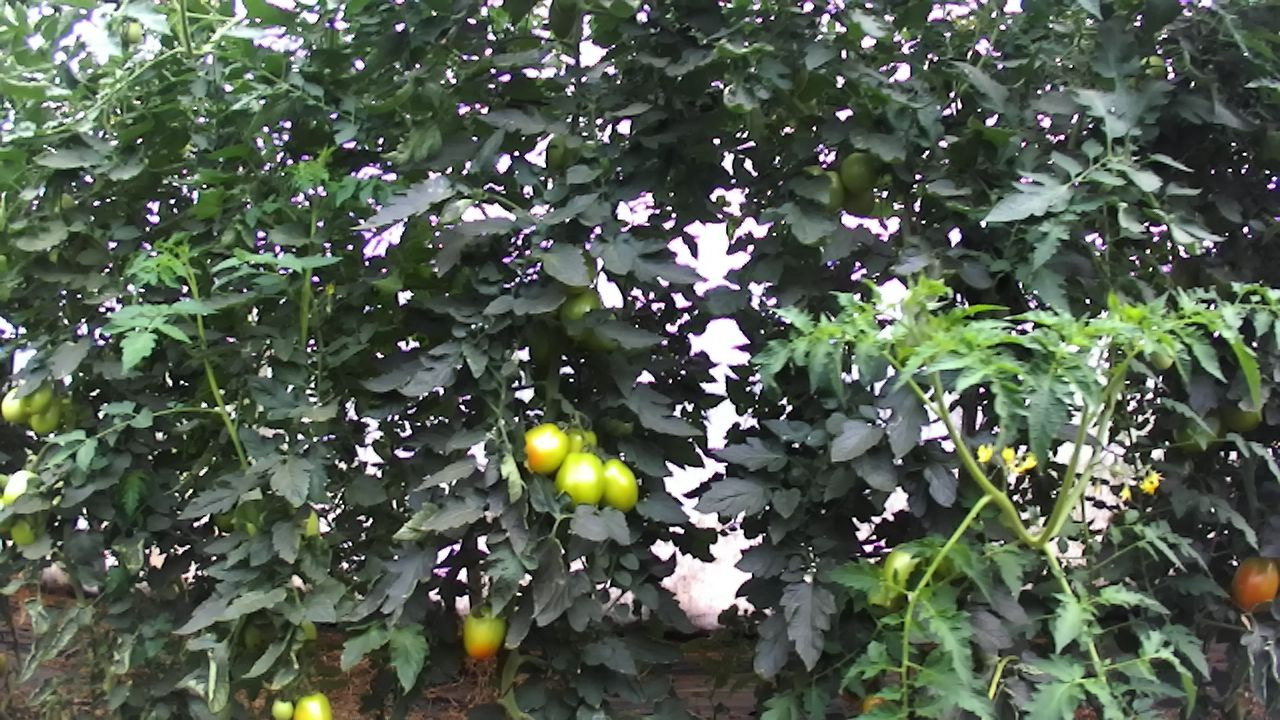tomato: (1228, 553, 1280, 616), (552, 450, 605, 511), (520, 419, 572, 476), (461, 603, 511, 662), (597, 456, 639, 516), (837, 148, 881, 197), (17, 373, 54, 418), (25, 396, 62, 436), (290, 688, 334, 720), (0, 383, 31, 426), (269, 696, 294, 720)
